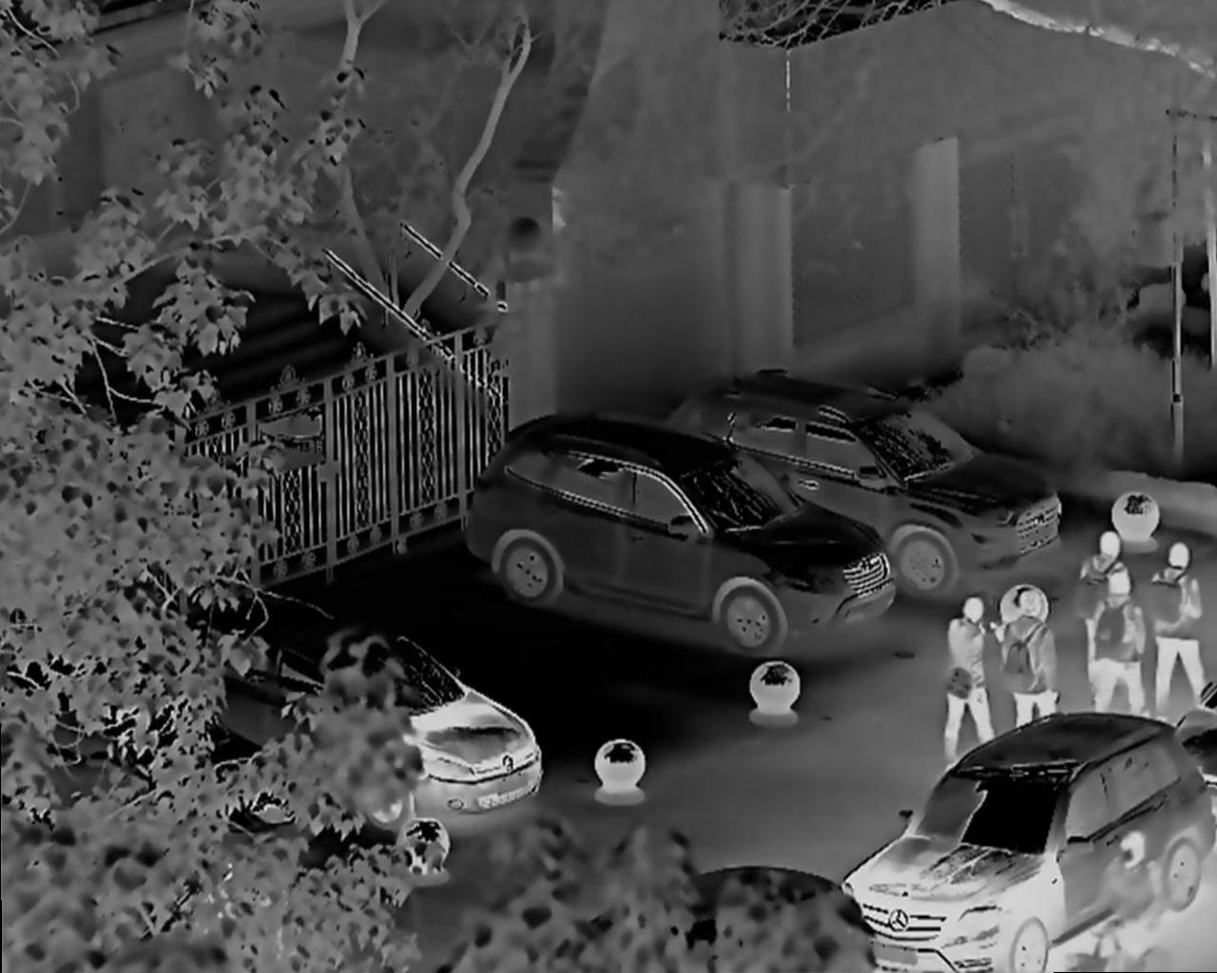person: (1154, 538, 1209, 699), (1093, 830, 1164, 945), (1001, 590, 1055, 739), (943, 589, 988, 764), (1102, 575, 1149, 725), (1093, 524, 1118, 649)
